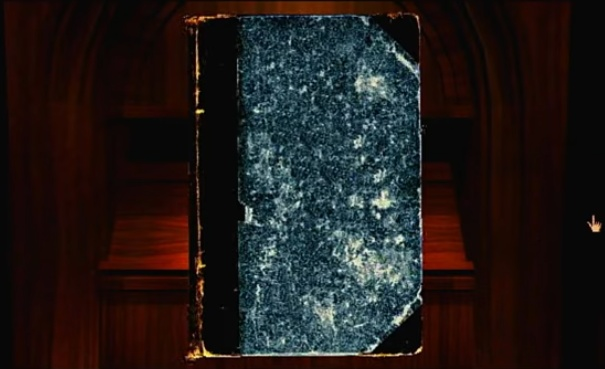Pointer: (583, 211, 605, 235)
